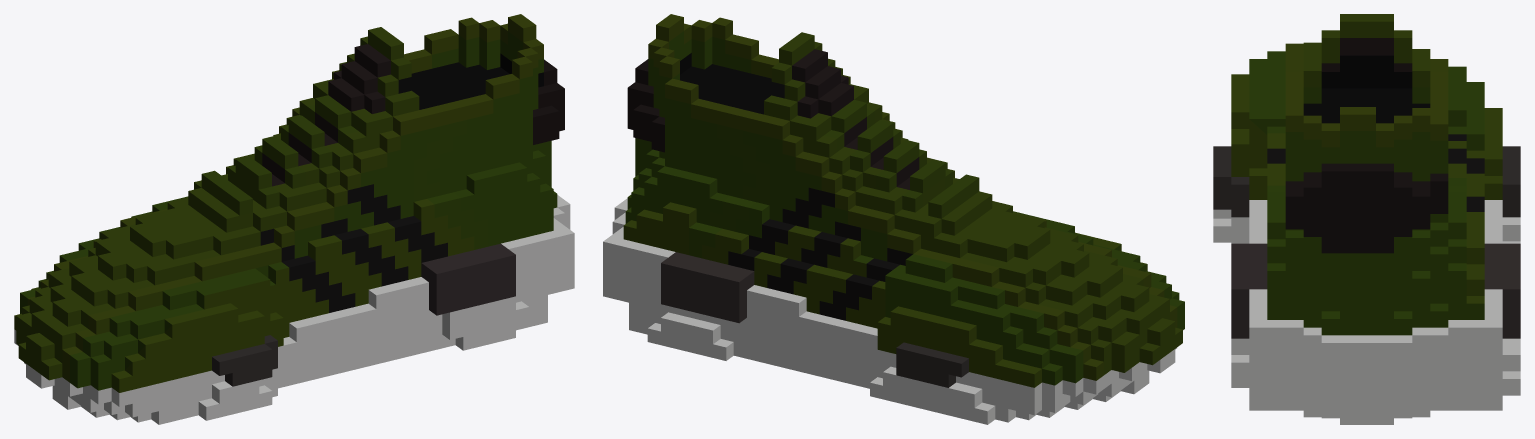
The model's file is Olive.fbx.
3 views of the same model, side by side, from view 1: azimuth 30°, elevation 25°; view 2: azimuth 150°, elevation 25°; view 3: azimuth 270°, elevation 25° (orthographic). The views are drawn at different scales.
Parts seen in each view (by area): view 1: Untitled; view 2: Untitled; view 3: Untitled.
Boxes of the visible parts, x1,y1,x2,y2 form: Untitled: (14,14,574,424); Untitled: (603,14,1184,424); Untitled: (1213,14,1520,424).
Bounding box in the file's own units: 400 × 200 × 170.
